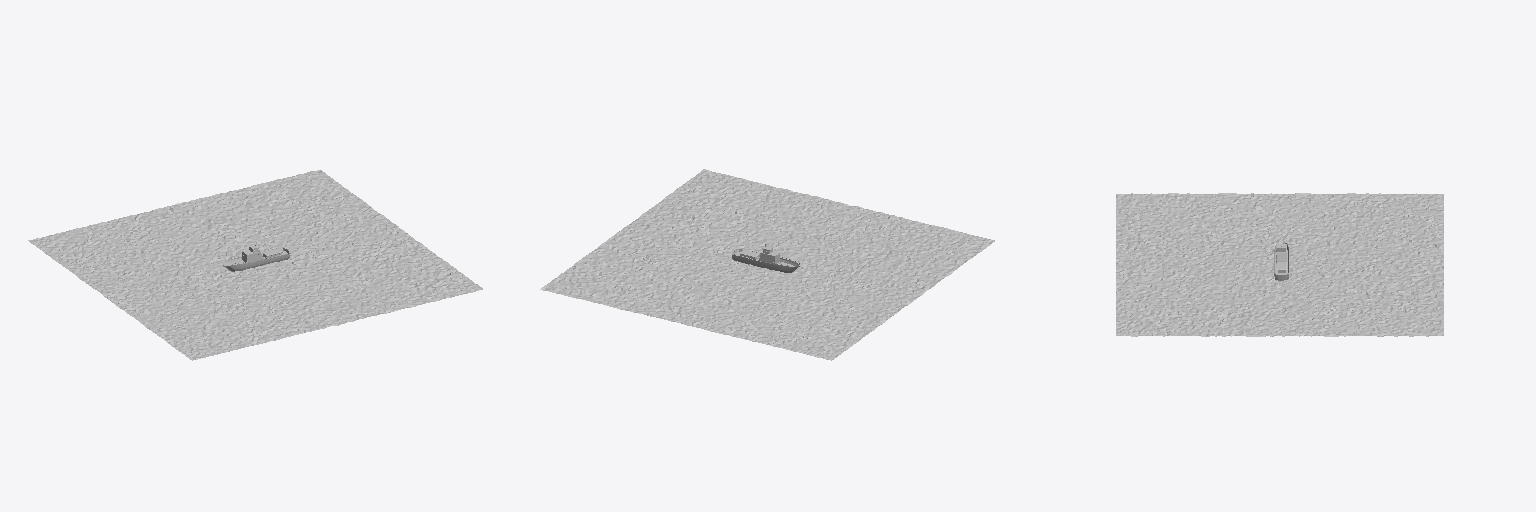
File: Lowpoly boat.obj
The picture shows the model from 3 angles: view 1: azimuth 30°, elevation 25°; view 2: azimuth 150°, elevation 25°; view 3: azimuth 270°, elevation 25°; orthographic projection.
Visible parts, largest first — view 1: Rectangle001, hull; view 2: Rectangle001, hull; view 3: Rectangle001.
Part boxes in pixels (bbox=[...]): Rectangle001: bbox=[28, 170, 482, 360]; hull: bbox=[222, 247, 290, 271]; Rectangle001: bbox=[540, 169, 994, 360]; hull: bbox=[732, 248, 799, 272]; Rectangle001: bbox=[1116, 193, 1443, 336].
Bounding box in the file's own units: 745 × 61.77 × 725.